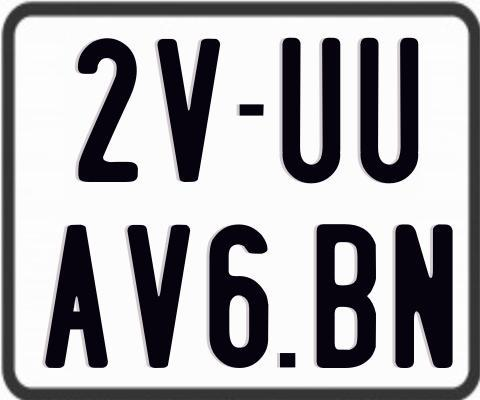2: (76, 38, 137, 184)
6: (206, 224, 271, 369)
A: (44, 225, 111, 368)
B: (316, 224, 382, 374)
N: (394, 223, 458, 371)
U: (360, 38, 418, 188), (282, 37, 340, 186)
V: (124, 225, 189, 371), (157, 38, 220, 187)
